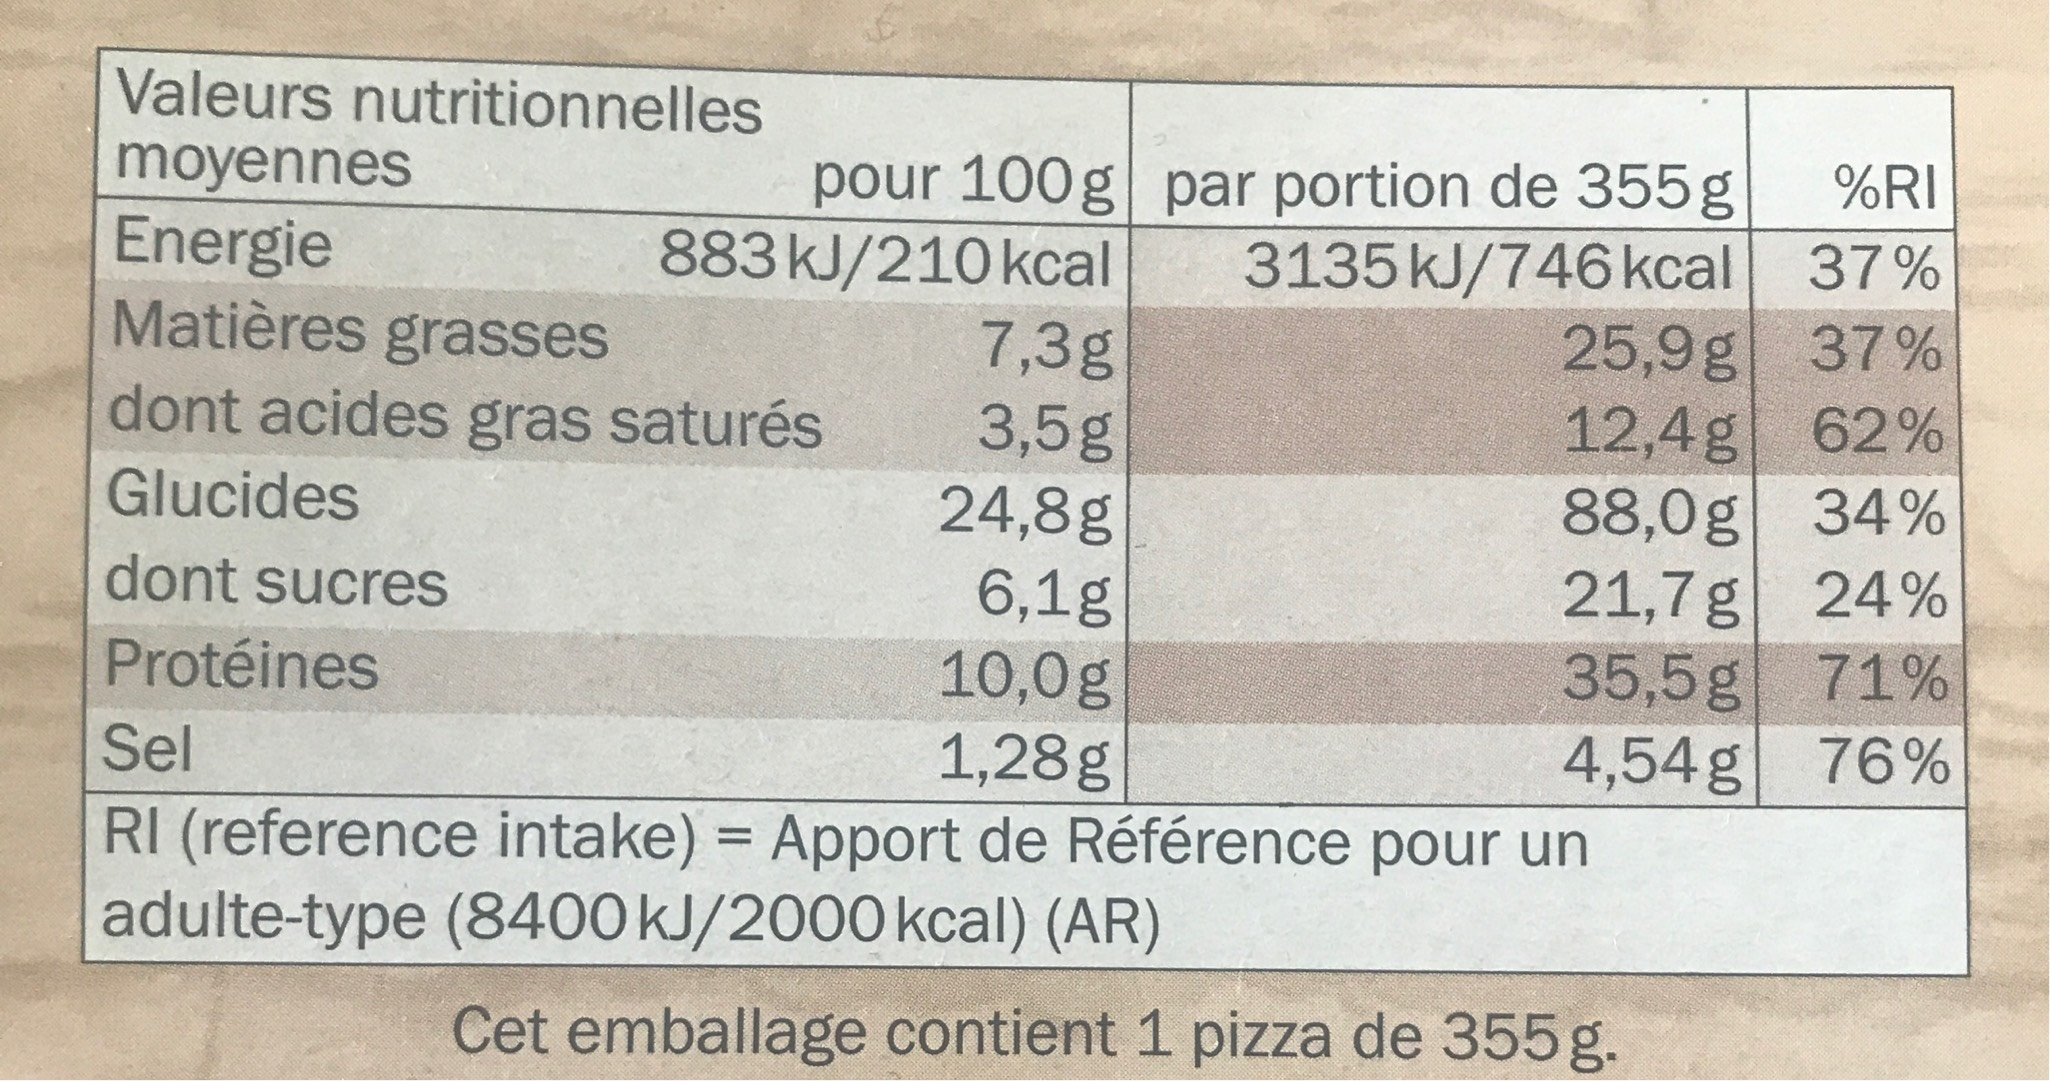column: (104, 57, 1114, 795), (1165, 83, 1742, 795), (1802, 84, 1950, 798)
table: (75, 43, 1975, 806)
